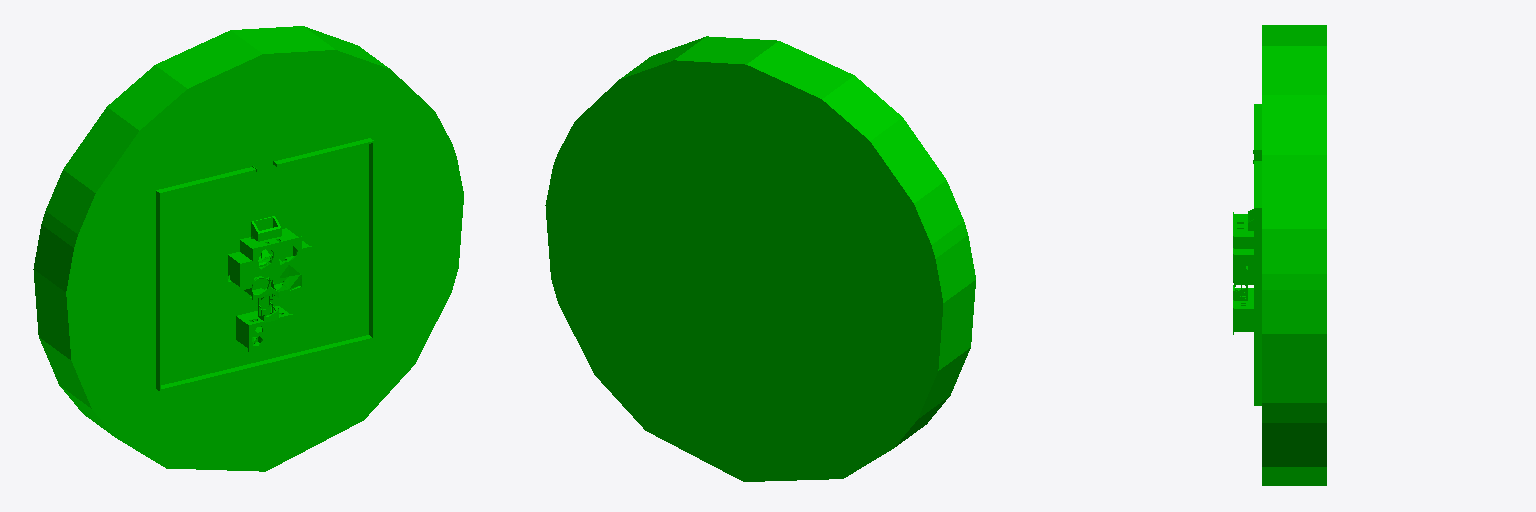
The model's file is lab_0003_dec.obj.
3 renders of one model, left to right at view 1: azimuth 30°, elevation 25°; view 2: azimuth 150°, elevation 25°; view 3: azimuth 270°, elevation 25°, orthographic.
Visible parts, largest first — view 1: RENDER.016_Cube.092; view 2: RENDER.016_Cube.092; view 3: RENDER.016_Cube.092.
Boxes of the visible parts, box(x1,y1,x2,y2) form: RENDER.016_Cube.092: box(33, 26, 463, 471); RENDER.016_Cube.092: box(545, 36, 975, 481); RENDER.016_Cube.092: box(1233, 25, 1326, 485).
Bounding box in the file's own units: 2893 × 2905 × 592.